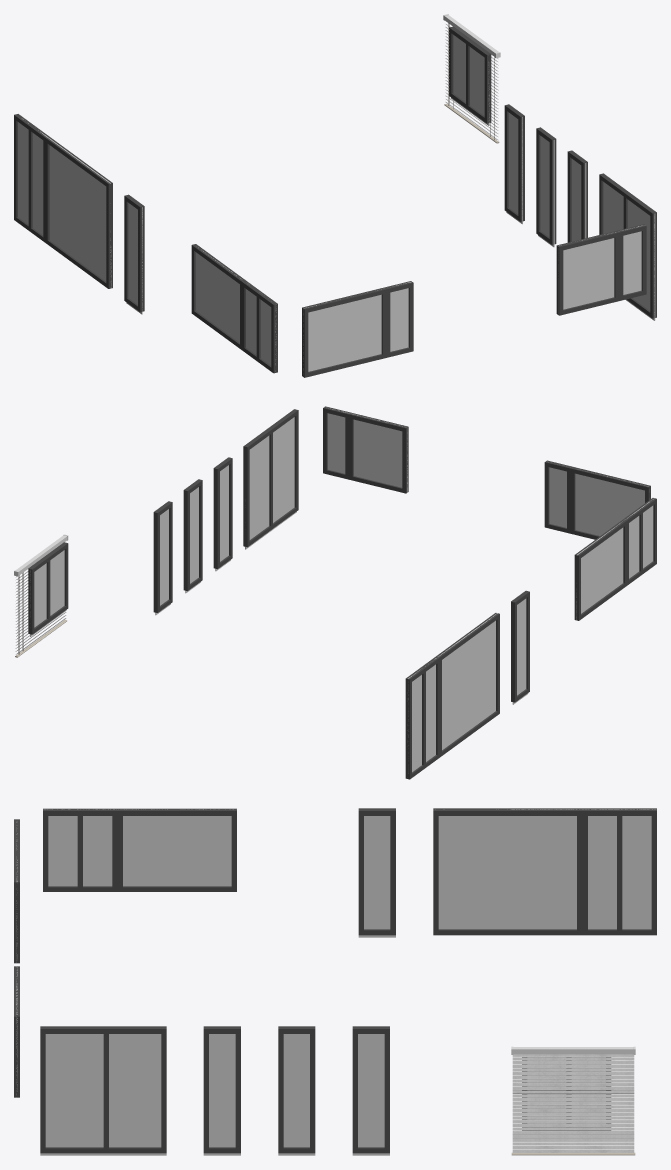
The model's file is OG_Fenster.gltf.
The picture shows the model from 3 angles, top to bottom: view 1: azimuth 30°, elevation 25°; view 2: azimuth 150°, elevation 25°; view 3: azimuth 270°, elevation 25°; orthographic projection. The views are drawn at different scales.
Visible parts, largest first — view 1: TürElement.007, TürElement.010, TürElement.008, TürElement.009, a.004, a.005, Glas.002, Bad.008, Cut_BreakfastOffice.001, Raffstores.001, Cut-Office.003, Bad.010 (+1 smaller); view 2: TürElement.007, TürElement.008, TürElement.009, TürElement.010, Glas.002, a.004, a.005, Cut_BreakfastOffice.001, Bad.008, Raffstores.001, Bad.010, Cut-Office.003 (+1 smaller); view 3: TürElement.007, TürElement.009, Raffstores.001, Glas.002, a.005, a.004, Cut_BreakfastOffice.001, Cut-Office.002, Cut-Office.003, Bad.008, TürElement.010, TürElement.008 (+1 smaller).
Boxes of the visible parts, <box> form: TürElement.007: <box>14,114,112,288</box>; TürElement.010: <box>302,281,413,377</box>; TürElement.008: <box>556,224,646,315</box>; TürElement.009: <box>191,244,277,373</box>; a.004: <box>504,104,587,244</box>; a.005: <box>506,112,586,247</box>; Glas.002: <box>603,182,655,320</box>; Bad.008: <box>451,35,489,125</box>; Cut_BreakfastOffice.001: <box>599,173,656,318</box>; Raffstores.001: <box>443,14,500,143</box>; Cut-Office.003: <box>124,194,144,312</box>; Bad.010: <box>449,26,491,123</box>; TürElement.007: <box>405,613,499,779</box>; TürElement.008: <box>323,406,408,493</box>; TürElement.009: <box>574,498,656,620</box>; TürElement.010: <box>544,460,650,539</box>; Glas.002: <box>245,417,296,549</box>; a.004: <box>153,457,232,612</box>; a.005: <box>155,465,230,615</box>; Cut_BreakfastOffice.001: <box>243,409,298,547</box>; Bad.008: <box>30,550,66,636</box>; Raffstores.001: <box>14,534,68,657</box>; Bad.010: <box>28,542,68,634</box>; Cut-Office.003: <box>511,590,529,702</box>; TürElement.007: <box>433,808,656,935</box>; TürElement.009: <box>43,808,236,891</box>; Raffstores.001: <box>511,1046,635,1155</box>; Glas.002: <box>40,1034,166,1155</box>; a.005: <box>203,1034,389,1155</box>; a.004: <box>203,1026,389,1153</box>; Cut_BreakfastOffice.001: <box>40,1026,166,1153</box>; Cut-Office.002: <box>358,816,395,937</box>; Cut-Office.003: <box>358,808,395,935</box>; Bad.008: <box>527,1057,605,1123</box>; TürElement.010: <box>14,819,19,963</box>; TürElement.008: <box>14,966,19,1097</box>.
Size of the model in its own units: 9.73 by 2.44 by 10.78.
Materials: 3 (1 with a texture image).
